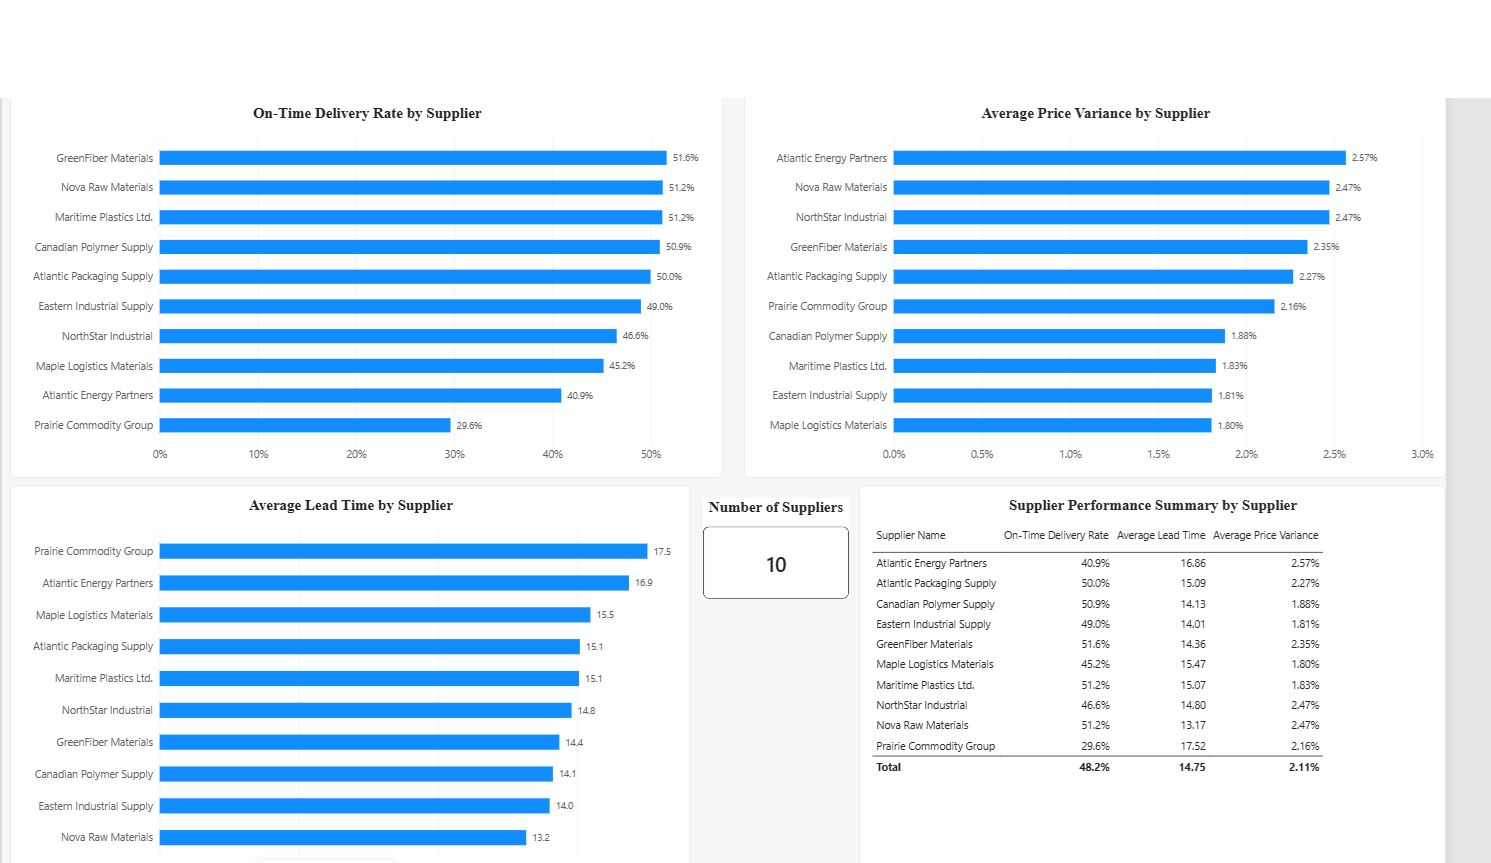

The page's visual inventory and layout, read from the dashboard file:
{"tool":"powerbi","page":{"name":"Supplier_Performance","canvas":[1920,1080],"ordinal":2},"visuals":[{"type":"clusteredBarChart","title":"On-Time Delivery Rate by Supplier","fields":{"Y":["Procurement.On-Time Delivery Rate"],"Category":["Suppliers.Supplier Name"]},"box":[10.9,0,948.3,512.1],"z":0},{"type":"clusteredBarChart","title":"Average Lead Time by Supplier","fields":{"Category":["Suppliers.Supplier Name"],"Y":["Procurement.Average Lead Time"]},"box":[10.9,521.2,904.8,541.1],"z":1000},{"type":"clusteredBarChart","title":"Average Price Variance by Supplier","fields":{"Category":["Suppliers.Supplier Name"],"Y":["Procurement.Average Price Variance"]},"box":[986.3,0,933.8,512.1],"z":2000},{"type":"cardVisual","title":"Number of Suppliers","fields":{"Data":["Suppliers.Total Suppliers"]},"box":[932,539.3,194,134.2],"z":3000},{"type":"tableEx","title":"Supplier Performance Summary by Supplier","fields":{"Values":["Suppliers.Supplier Name","Procurement.On-Time Delivery Rate","Procurement.Average Lead Time","Procurement.Average Price Variance"]},"box":[1140.1,521.2,780,541.1],"z":4000}]}

Visuals, with their boxes in screenshot pixels (x1, y1, x2, y2), scaled from the page's 1920x1080 canvas onto the 1491x863 screenshot:
"On-Time Delivery Rate by Supplier" clusteredBarChart: region(8, 0, 745, 409)
"Average Lead Time by Supplier" clusteredBarChart: region(8, 416, 711, 849)
"Average Price Variance by Supplier" clusteredBarChart: region(766, 0, 1490, 409)
"Number of Suppliers" cardVisual: region(724, 431, 874, 538)
"Supplier Performance Summary by Supplier" tableEx: region(885, 416, 1490, 849)
